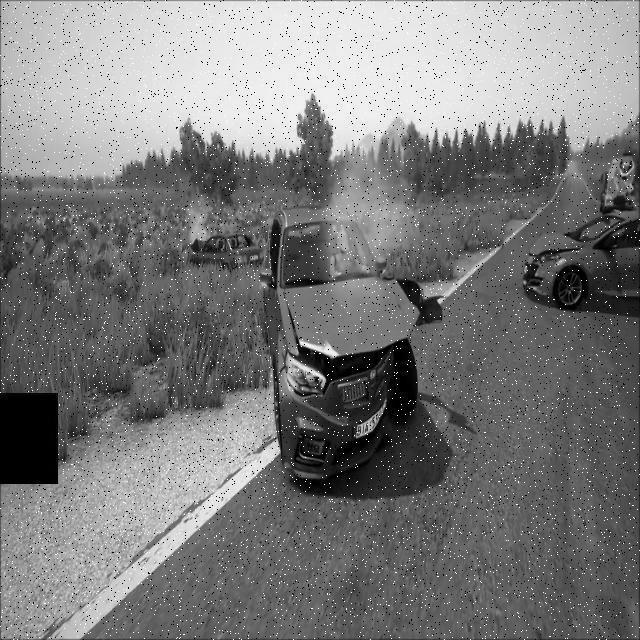accident: (258, 201, 423, 487)
vehicle: (522, 210, 640, 314), (185, 231, 265, 273), (599, 152, 637, 213)
